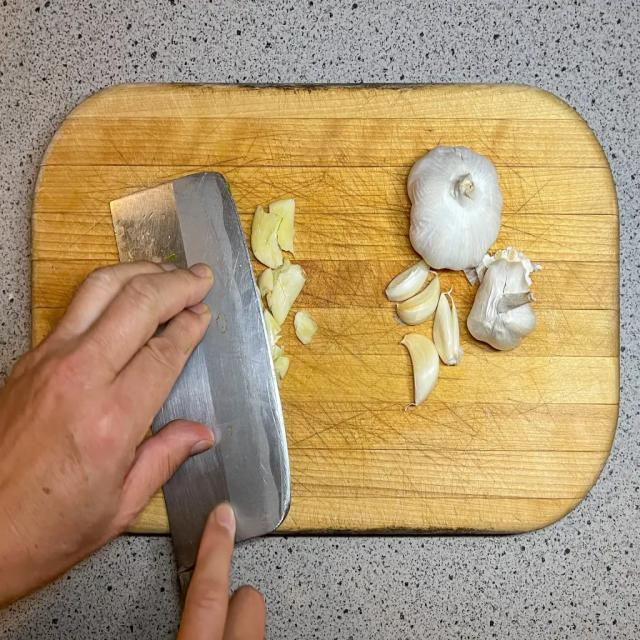cleaver: (9, 170, 298, 640)
